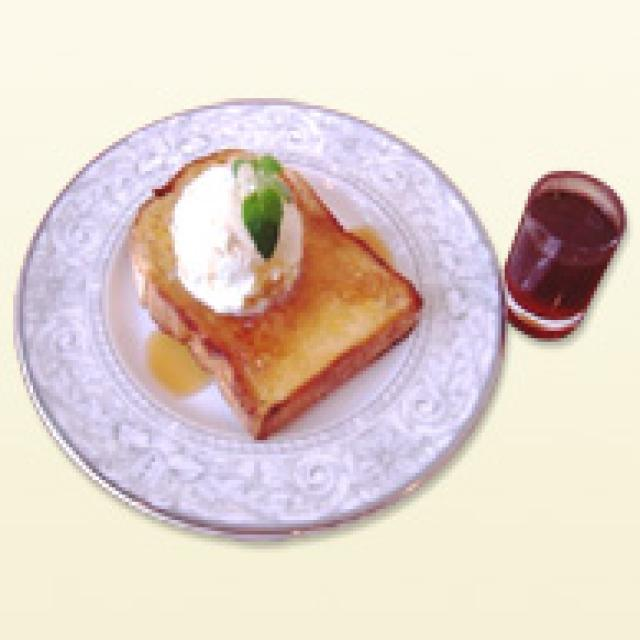面包点心: (109, 153, 422, 436)
